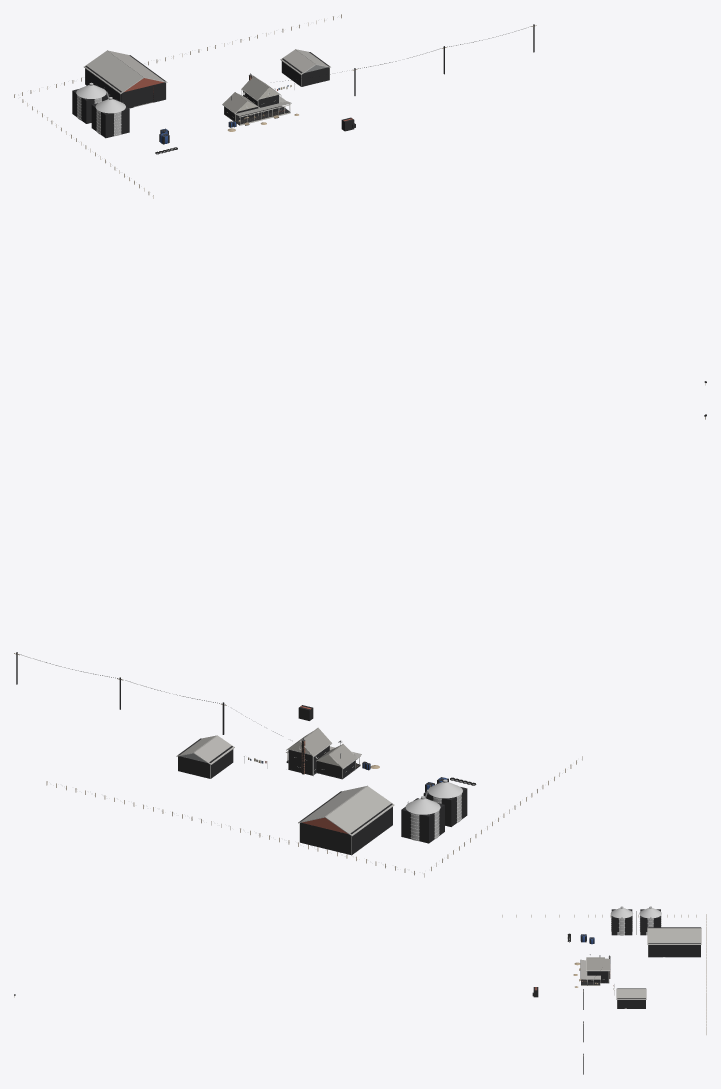
Rendered from farm.glb.
The picture shows the model from 3 angles, top to bottom: view 1: azimuth 30°, elevation 25°; view 2: azimuth 150°, elevation 25°; view 3: azimuth 270°, elevation 25°; orthographic projection. The views are drawn at different scales.
Parts seen in each view (by area): view 1: farm_house, farm_barn, farm_yard, COL_bin1, farm_garage; view 2: farm_barn, farm_yard, farm_house, COL_barncn_0, COL_bin0, farm_garage, COL_barncw_0; view 3: farm_barn, farm_yard, farm_house, COL_barnce_1, farm_garage, COL_bin1.
Boxes of the visible parts, bbox=[...] form: farm_house: bbox=[15, 26, 531, 125]; farm_barn: bbox=[72, 50, 167, 107]; farm_yard: bbox=[14, 14, 705, 385]; COL_bin1: bbox=[91, 99, 129, 138]; farm_garage: bbox=[280, 49, 330, 89]; farm_barn: bbox=[288, 785, 394, 860]; farm_yard: bbox=[14, 416, 705, 877]; farm_house: bbox=[20, 654, 428, 833]; COL_barncn_0: bbox=[300, 822, 351, 855]; COL_bin0: bbox=[401, 798, 444, 843]; farm_garage: bbox=[176, 735, 244, 778]; COL_barncw_0: bbox=[352, 807, 392, 854]; farm_barn: bbox=[647, 927, 706, 958]; farm_yard: bbox=[14, 906, 706, 1055]; farm_house: bbox=[573, 911, 636, 985]; COL_barnce_1: bbox=[665, 945, 700, 957]; farm_garage: bbox=[614, 988, 646, 1008]; COL_bin1: bbox=[611, 909, 632, 935].
Bounding box in the file's own units: 157 × 11.17 × 290.
